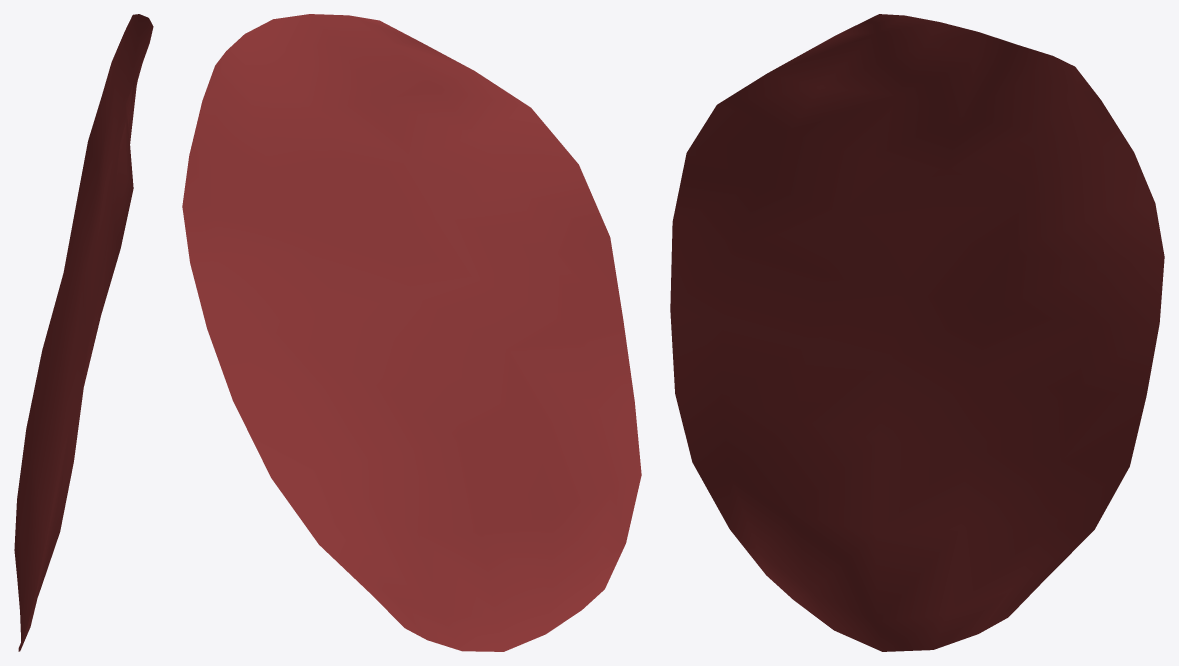
File: anserine-bursa-r.glb
3 renders of one model, left to right at view 1: azimuth 30°, elevation 25°; view 2: azimuth 150°, elevation 25°; view 3: azimuth 270°, elevation 25°, orthographic. The views are drawn at different scales.
Parts seen in each view (by area): view 1: Anserine bursa.r; view 2: Anserine bursa.r; view 3: Anserine bursa.r.
Boxes of the visible parts, x1=… form: Anserine bursa.r: x1=14, y1=14, x2=153, y2=651; Anserine bursa.r: x1=182, y1=14, x2=641, y2=651; Anserine bursa.r: x1=670, y1=14, x2=1164, y2=651.
Bounding box in the file's own units: 0.0128 × 0.0283 × 0.0174.
